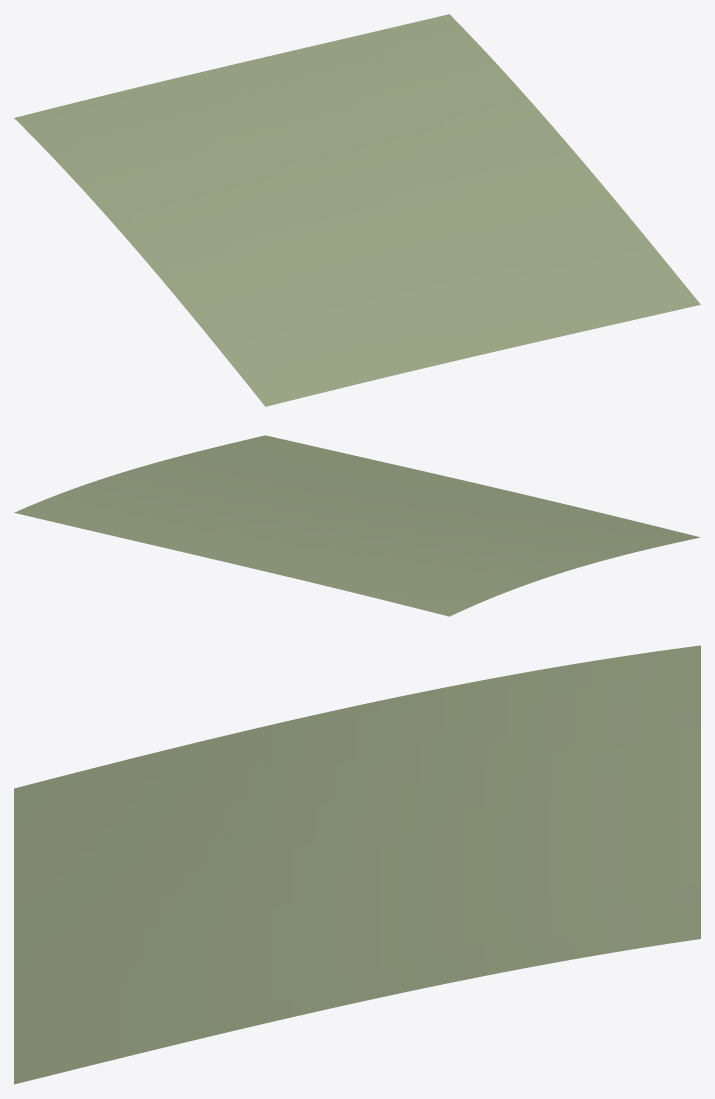
Rendered from expanse-27-18.glb.
3 views of the same model, one above another, from view 1: azimuth 30°, elevation 25°; view 2: azimuth 150°, elevation 25°; view 3: azimuth 270°, elevation 25° (orthographic). The views are drawn at different scales.
Visible parts, largest first — view 1: expanse-27-18; view 2: expanse-27-18; view 3: expanse-27-18.
Part boxes in pixels (x1,y1,x2,y2): expanse-27-18: (14, 14, 700, 406); expanse-27-18: (14, 435, 700, 616); expanse-27-18: (14, 645, 700, 1084).
Size of the model in its own units: 256 by 61.48 by 256.
